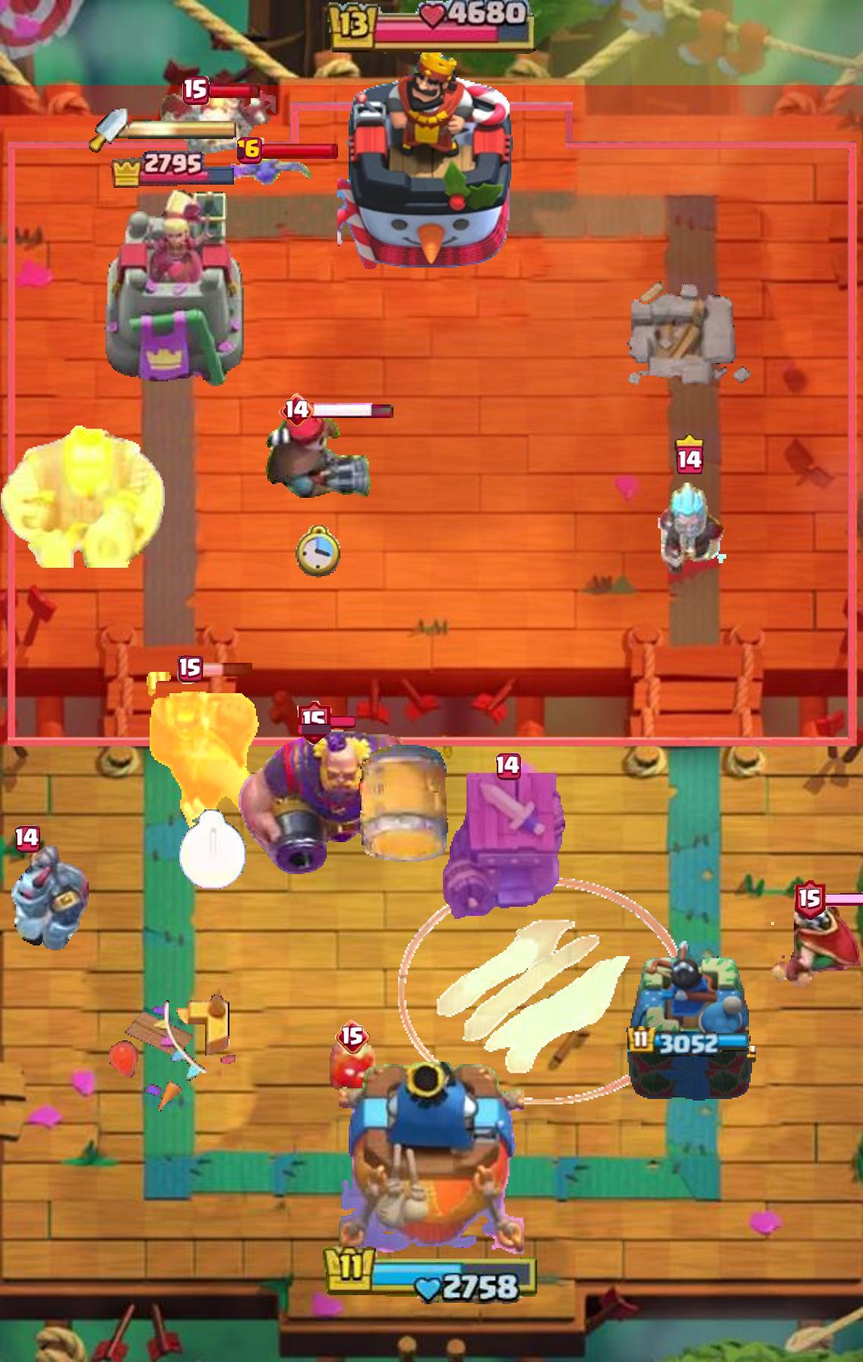bar: (311, 401, 394, 420), (260, 141, 339, 160), (206, 82, 262, 99), (200, 662, 253, 677), (822, 891, 863, 909), (328, 716, 356, 729)
bar-level: (297, 701, 332, 745), (794, 880, 826, 920), (278, 393, 314, 428), (675, 433, 705, 474), (335, 1020, 370, 1055), (182, 76, 210, 105), (237, 136, 265, 165), (177, 655, 203, 684), (496, 752, 522, 780), (14, 825, 40, 853)
